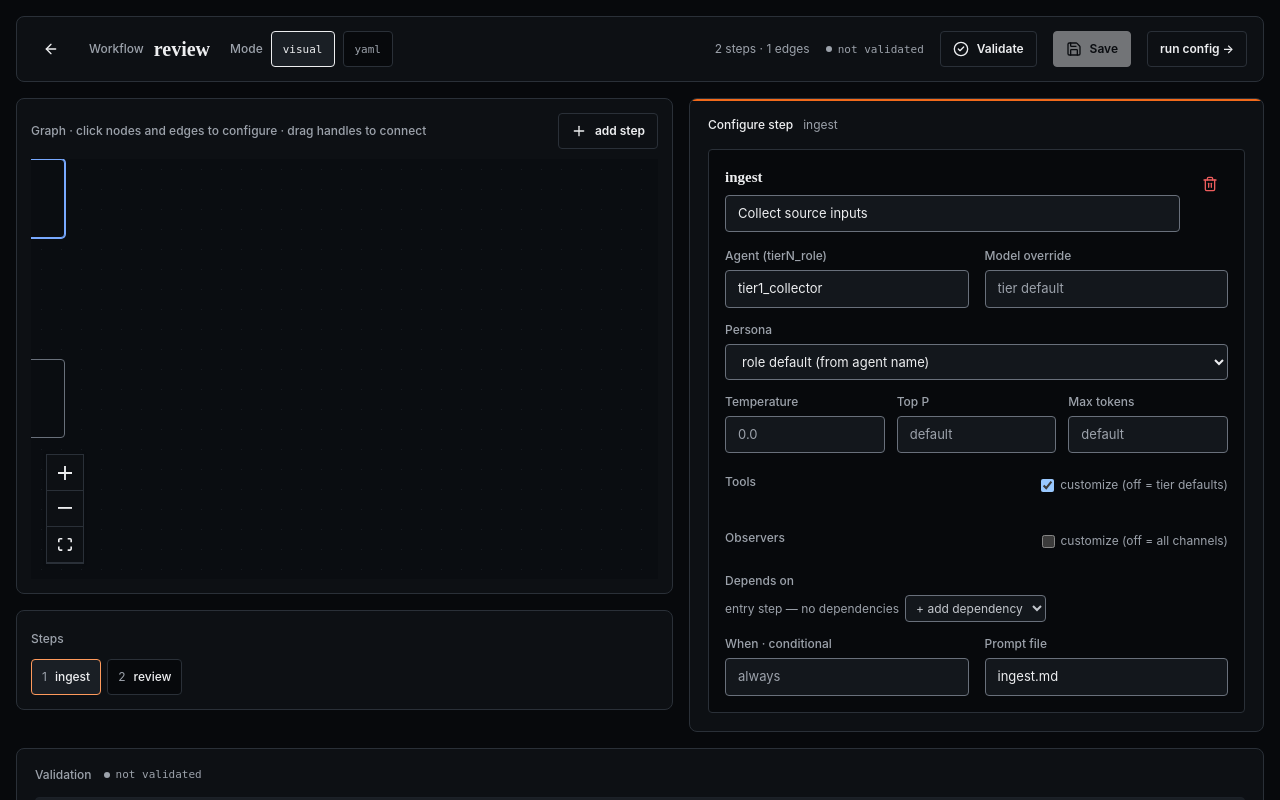
Test: WorkflowEditorPage › disables Save and Validate with a visible reason while the API is down
The image size is (1280, 800).
// Dirty the draft so Save would otherwise be enabled.
Type "0.4" into the number field labelled "Temperature" at (805, 434), box [725,416,885,453]
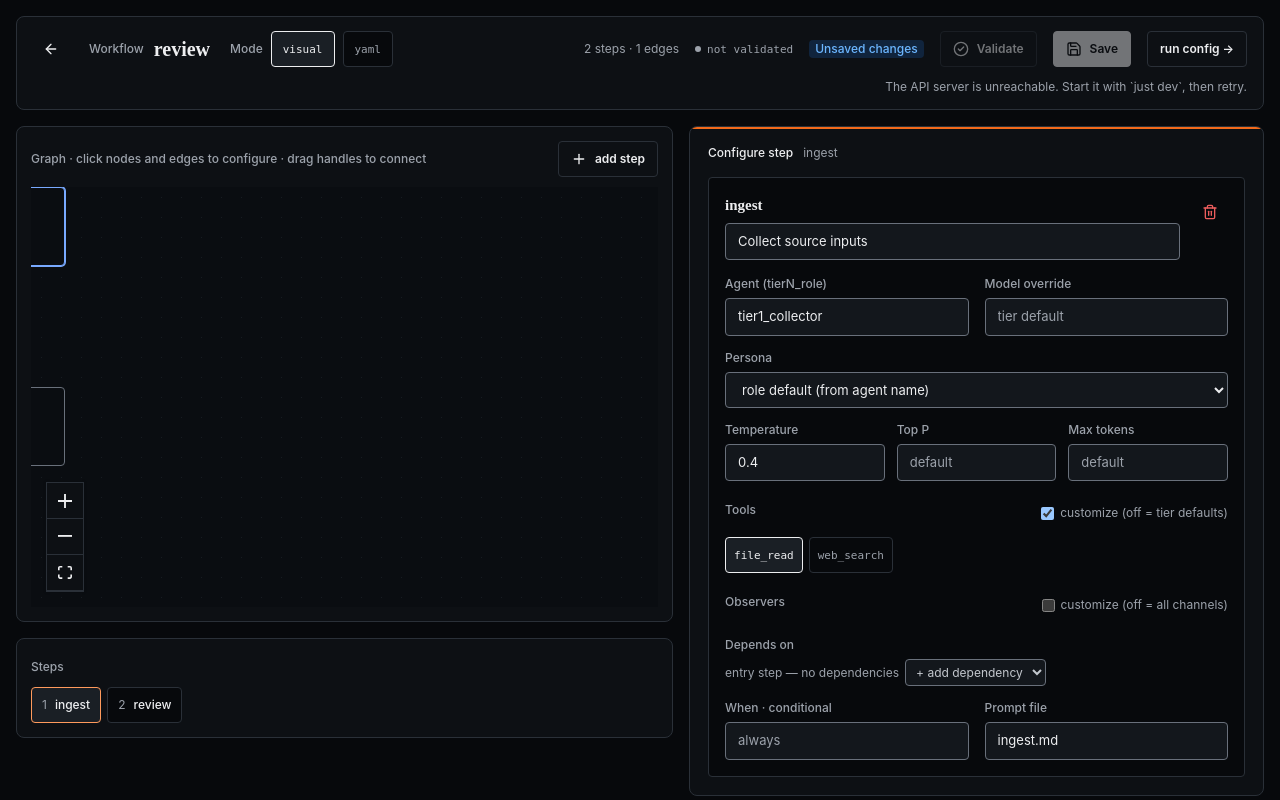
Expected: the button "Save" is disabled, [1053,31,1131,67]
Expected: the button "Validate" is disabled, [940,31,1037,67]
